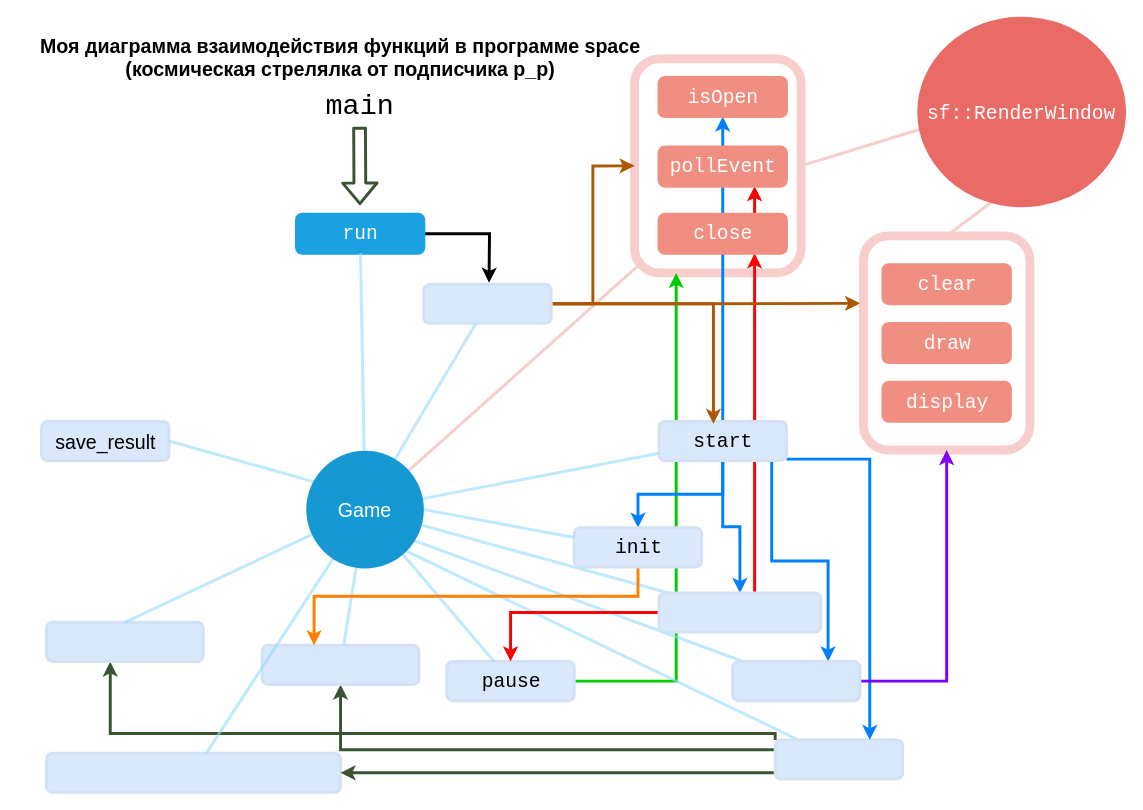
Some shapes in this 1143 by 810 pixel diagram are drawn without their labels. The centre of each missing label's shape, as x and y in pixels:
check_bullet_collision: (x=193, y=772)
create_swarm: (x=340, y=664)
handle_input: (x=739, y=612)
is_collision: (x=124, y=641)
menu: (x=487, y=303)
render: (x=796, y=681)
update: (x=838, y=759)
